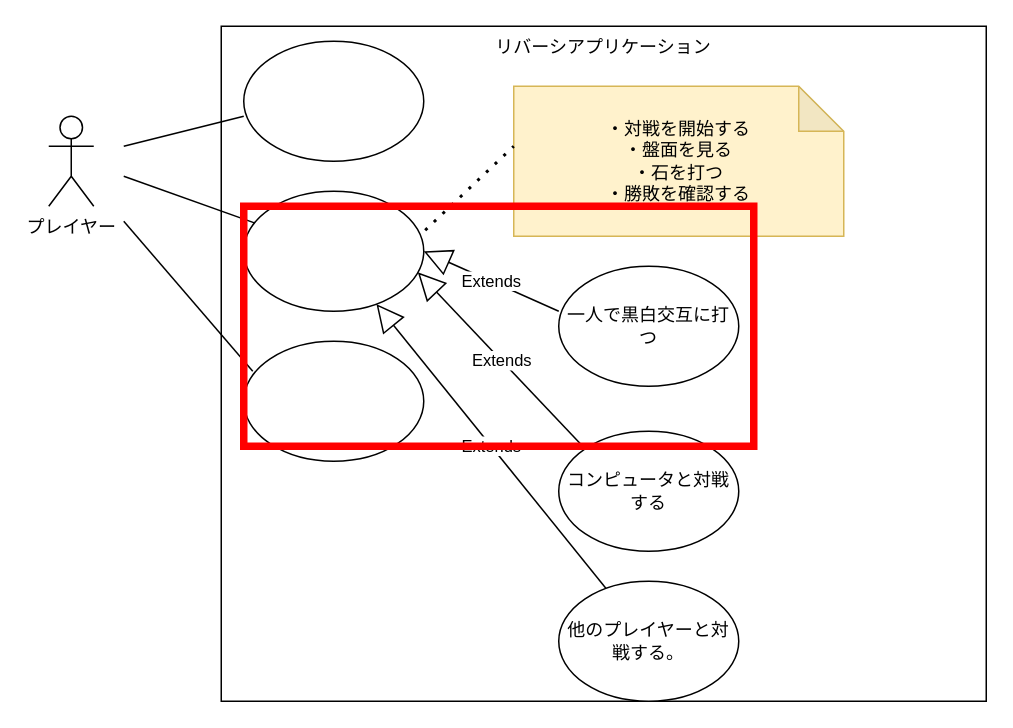
The diagram is 1013 pixels wide and 728 high, and some of its shapes have lost their labels. The centre of each missing label's shape, as x and y in pixels:
"会員登録・ログイン" belongs at [333,100].
"対戦する" belongs at [333,250].
"自分の過去の対戦結果を確認する" belongs at [333,400].
